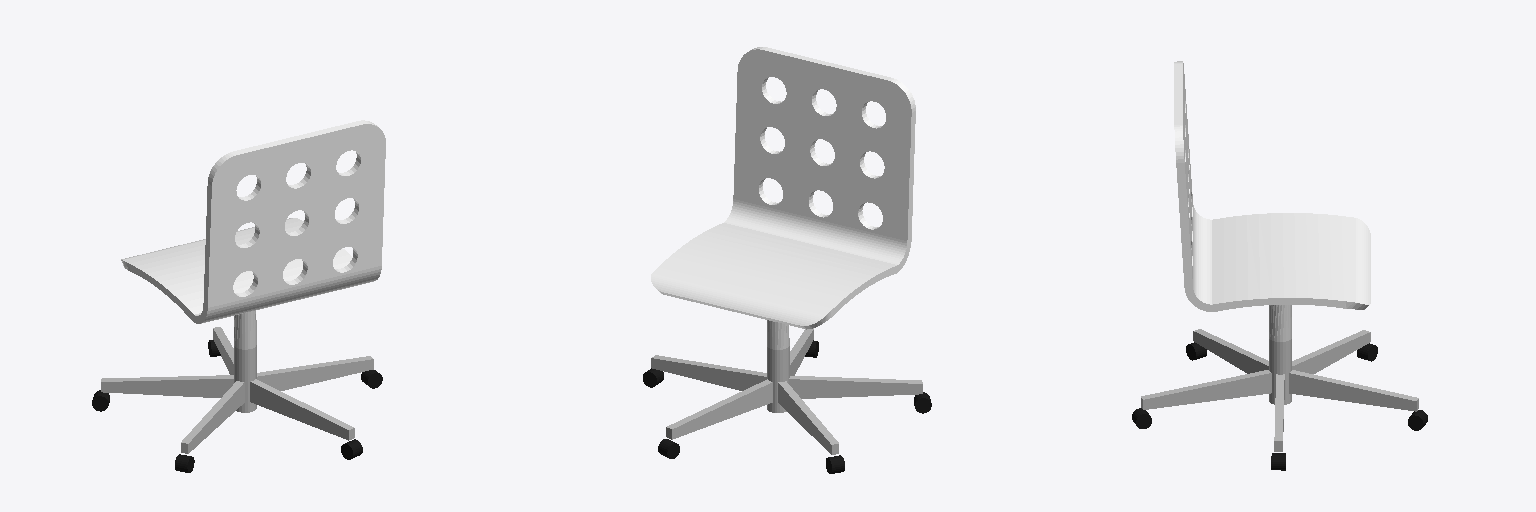
The picture shows the model from 3 angles: view 1: azimuth 30°, elevation 25°; view 2: azimuth 150°, elevation 25°; view 3: azimuth 270°, elevation 25°; orthographic projection.
Parts seen in each view (by area): view 1: Mesh1 Group2 Group1 Model, Mesh7 Group6 Group3 ske3F1 Group1 Model, Mesh5 Group5 Group3 ske3F1 Group1 Model, Mesh11 Group8 Group3 ske3F1 Group1 Model, Mesh12 Group3 ske3F1 Group1 Model, Mesh9 Group7 Group3 ske3F1 Group1 Model, Mesh3 Group4 Group3 ske3F1 Group1 Model; view 2: Mesh1 Group2 Group1 Model, Mesh9 Group7 Group3 ske3F1 Group1 Model, Mesh3 Group4 Group3 ske3F1 Group1 Model, Mesh11 Group8 Group3 ske3F1 Group1 Model, Mesh12 Group3 ske3F1 Group1 Model, Mesh7 Group6 Group3 ske3F1 Group1 Model, Mesh5 Group5 Group3 ske3F1 Group1 Model; view 3: Mesh1 Group2 Group1 Model, Mesh5 Group5 Group3 ske3F1 Group1 Model, Mesh3 Group4 Group3 ske3F1 Group1 Model, Mesh12 Group3 ske3F1 Group1 Model, Mesh7 Group6 Group3 ske3F1 Group1 Model, Mesh9 Group7 Group3 ske3F1 Group1 Model, Mesh11 Group8 Group3 ske3F1 Group1 Model.
Part boxes in pixels (left/top/right/bottom): Mesh1 Group2 Group1 Model: left=121, top=120, right=385, bottom=323; Mesh7 Group6 Group3 ske3F1 Group1 Model: left=101, top=375, right=233, bottom=397; Mesh5 Group5 Group3 ske3F1 Group1 Model: left=250, top=379, right=354, bottom=440; Mesh11 Group8 Group3 ske3F1 Group1 Model: left=257, top=356, right=373, bottom=390; Mesh12 Group3 ske3F1 Group1 Model: left=234, top=310, right=256, bottom=412; Mesh9 Group7 Group3 ske3F1 Group1 Model: left=181, top=381, right=244, bottom=453; Mesh3 Group4 Group3 ske3F1 Group1 Model: left=213, top=327, right=233, bottom=374; Mesh1 Group2 Group1 Model: left=651, top=47, right=915, bottom=329; Mesh9 Group7 Group3 ske3F1 Group1 Model: left=789, top=376, right=922, bottom=398; Mesh3 Group4 Group3 ske3F1 Group1 Model: left=666, top=379, right=772, bottom=439; Mesh11 Group8 Group3 ske3F1 Group1 Model: left=651, top=355, right=766, bottom=390; Mesh12 Group3 ske3F1 Group1 Model: left=767, top=320, right=789, bottom=412; Mesh7 Group6 Group3 ske3F1 Group1 Model: left=778, top=381, right=838, bottom=454; Mesh5 Group5 Group3 ske3F1 Group1 Model: left=790, top=328, right=813, bottom=375; Mesh1 Group2 Group1 Model: left=1174, top=61, right=1370, bottom=311; Mesh5 Group5 Group3 ske3F1 Group1 Model: left=1141, top=370, right=1271, bottom=409; Mesh3 Group4 Group3 ske3F1 Group1 Model: left=1289, top=370, right=1418, bottom=411; Mesh12 Group3 ske3F1 Group1 Model: left=1269, top=305, right=1291, bottom=404; Mesh7 Group6 Group3 ske3F1 Group1 Model: left=1292, top=330, right=1370, bottom=373; Mesh9 Group7 Group3 ske3F1 Group1 Model: left=1193, top=329, right=1268, bottom=373; Mesh11 Group8 Group3 ske3F1 Group1 Model: left=1274, top=374, right=1284, bottom=451.
Size of the model in its own units: 0.5264 by 0.6459 by 0.5512.